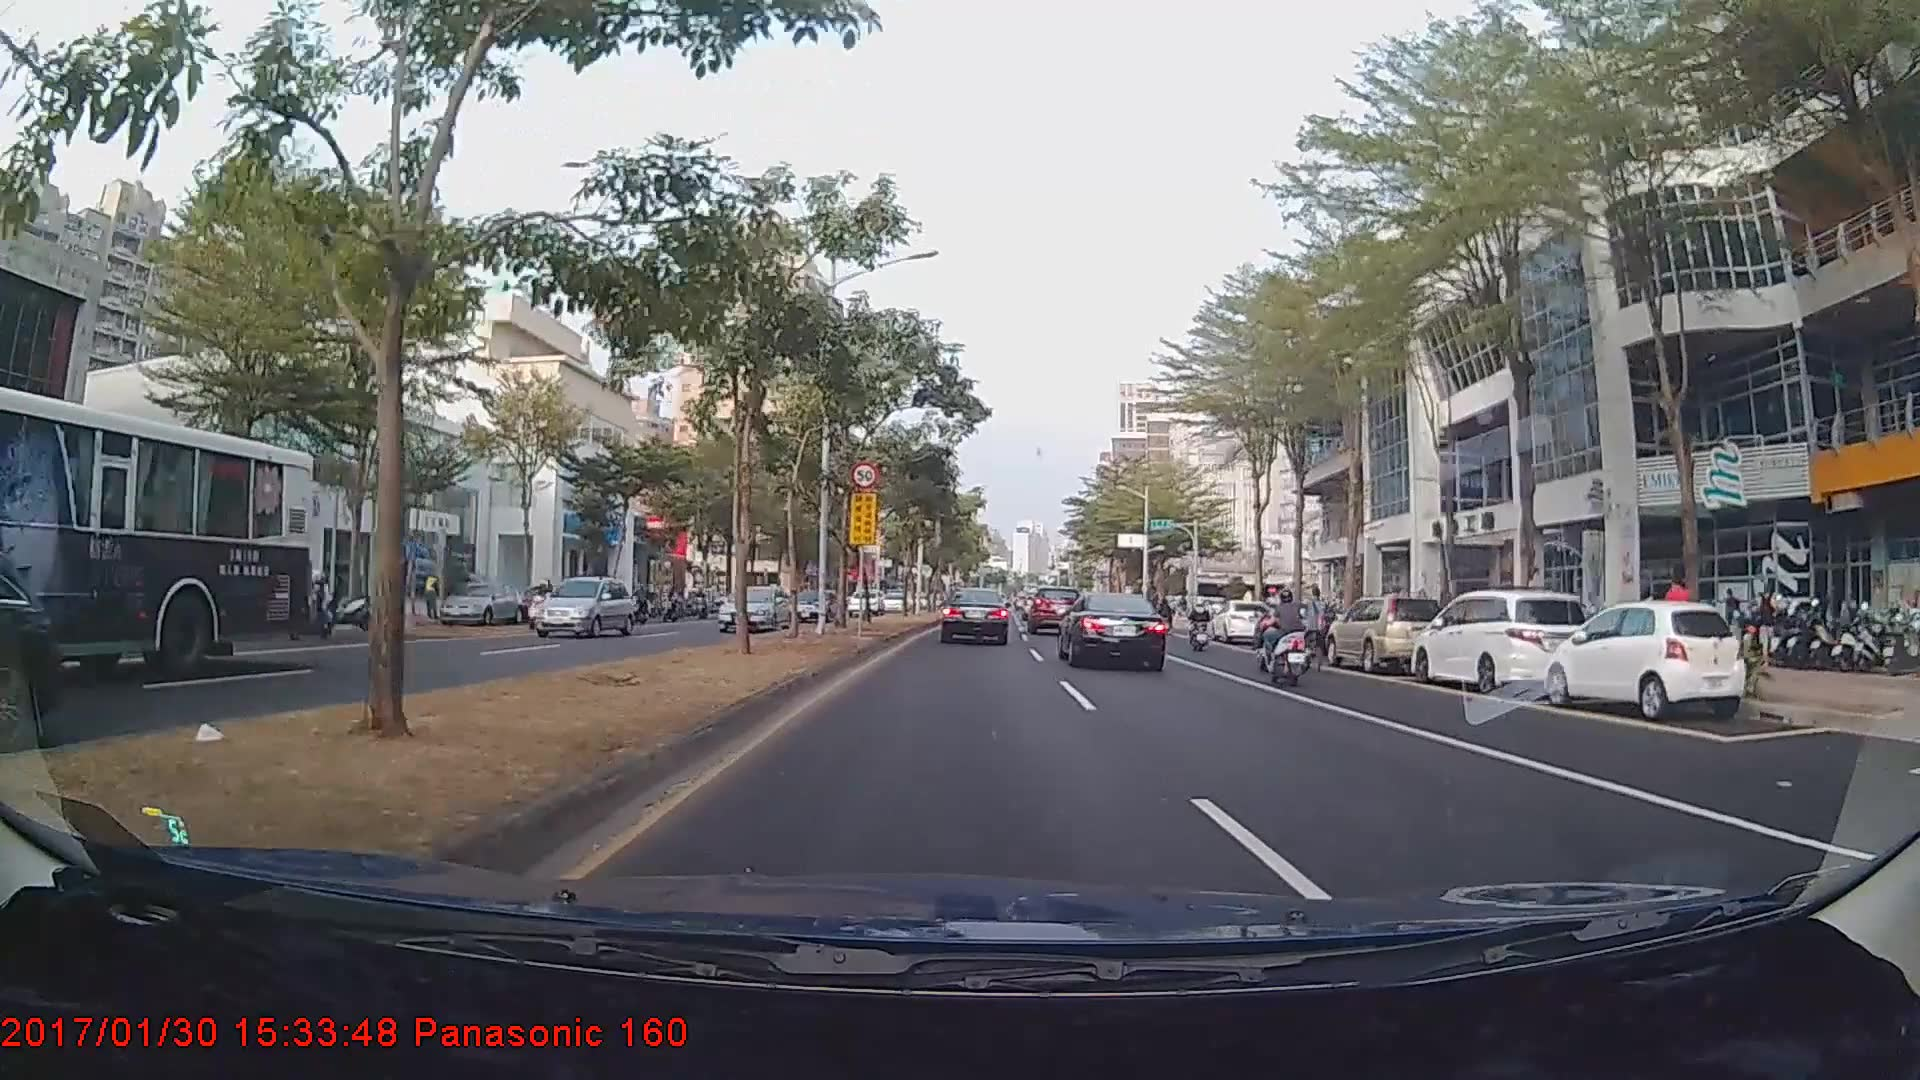rider: (1253, 582, 1324, 683), (1183, 592, 1216, 647)
vehicle: (0, 381, 308, 685), (1544, 597, 1749, 715), (1409, 588, 1591, 695), (1326, 592, 1449, 670), (1059, 587, 1169, 672), (527, 575, 635, 639), (939, 586, 1011, 645), (437, 579, 523, 625), (715, 581, 790, 632), (1214, 595, 1273, 643), (1027, 586, 1081, 632), (517, 583, 574, 622), (790, 586, 840, 621), (847, 587, 883, 612)
